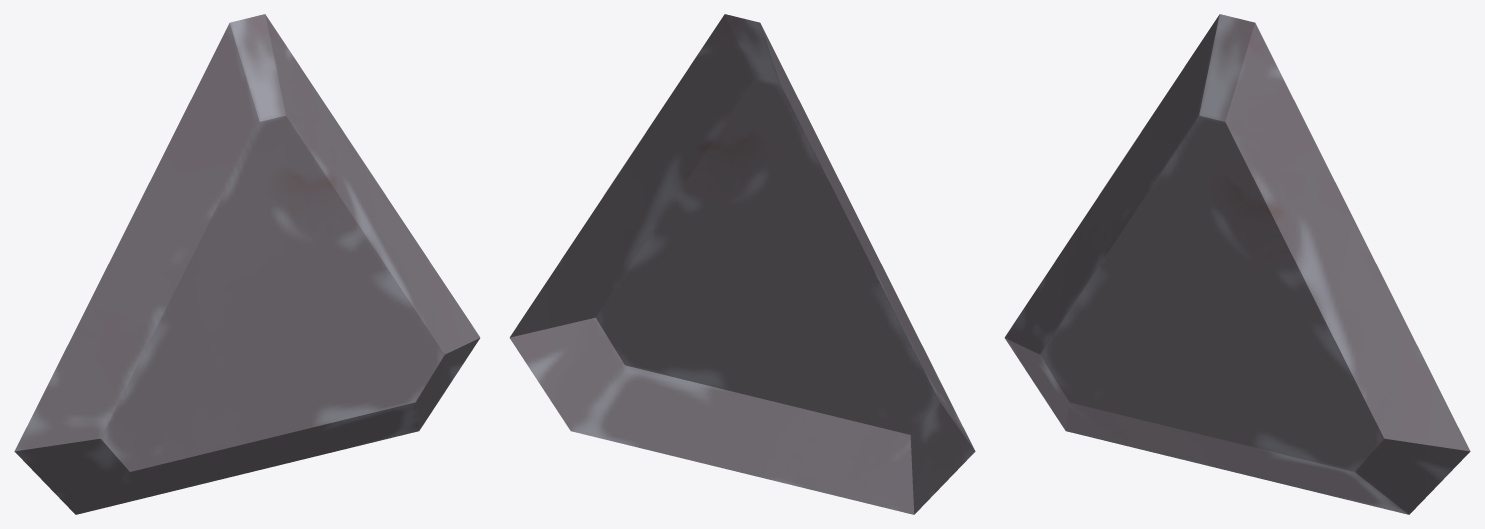
The model's file is Parts_Handle_Triangle.fbx.
3 renders of one model, left to right at view 1: azimuth 30°, elevation 25°; view 2: azimuth 150°, elevation 25°; view 3: azimuth 330°, elevation 25°, orthographic.
Parts seen in each view (by area): view 1: Parts_Handle_Triangle; view 2: Parts_Handle_Triangle; view 3: Parts_Handle_Triangle.
Part boxes in pixels (x1=…): Parts_Handle_Triangle: x1=14, y1=14, x2=480, y2=514; Parts_Handle_Triangle: x1=509, y1=14, x2=975, y2=514; Parts_Handle_Triangle: x1=1004, y1=14, x2=1470, y2=514.
Bounding box in the file's own units: 14.14 × 13.18 × 1.33.
